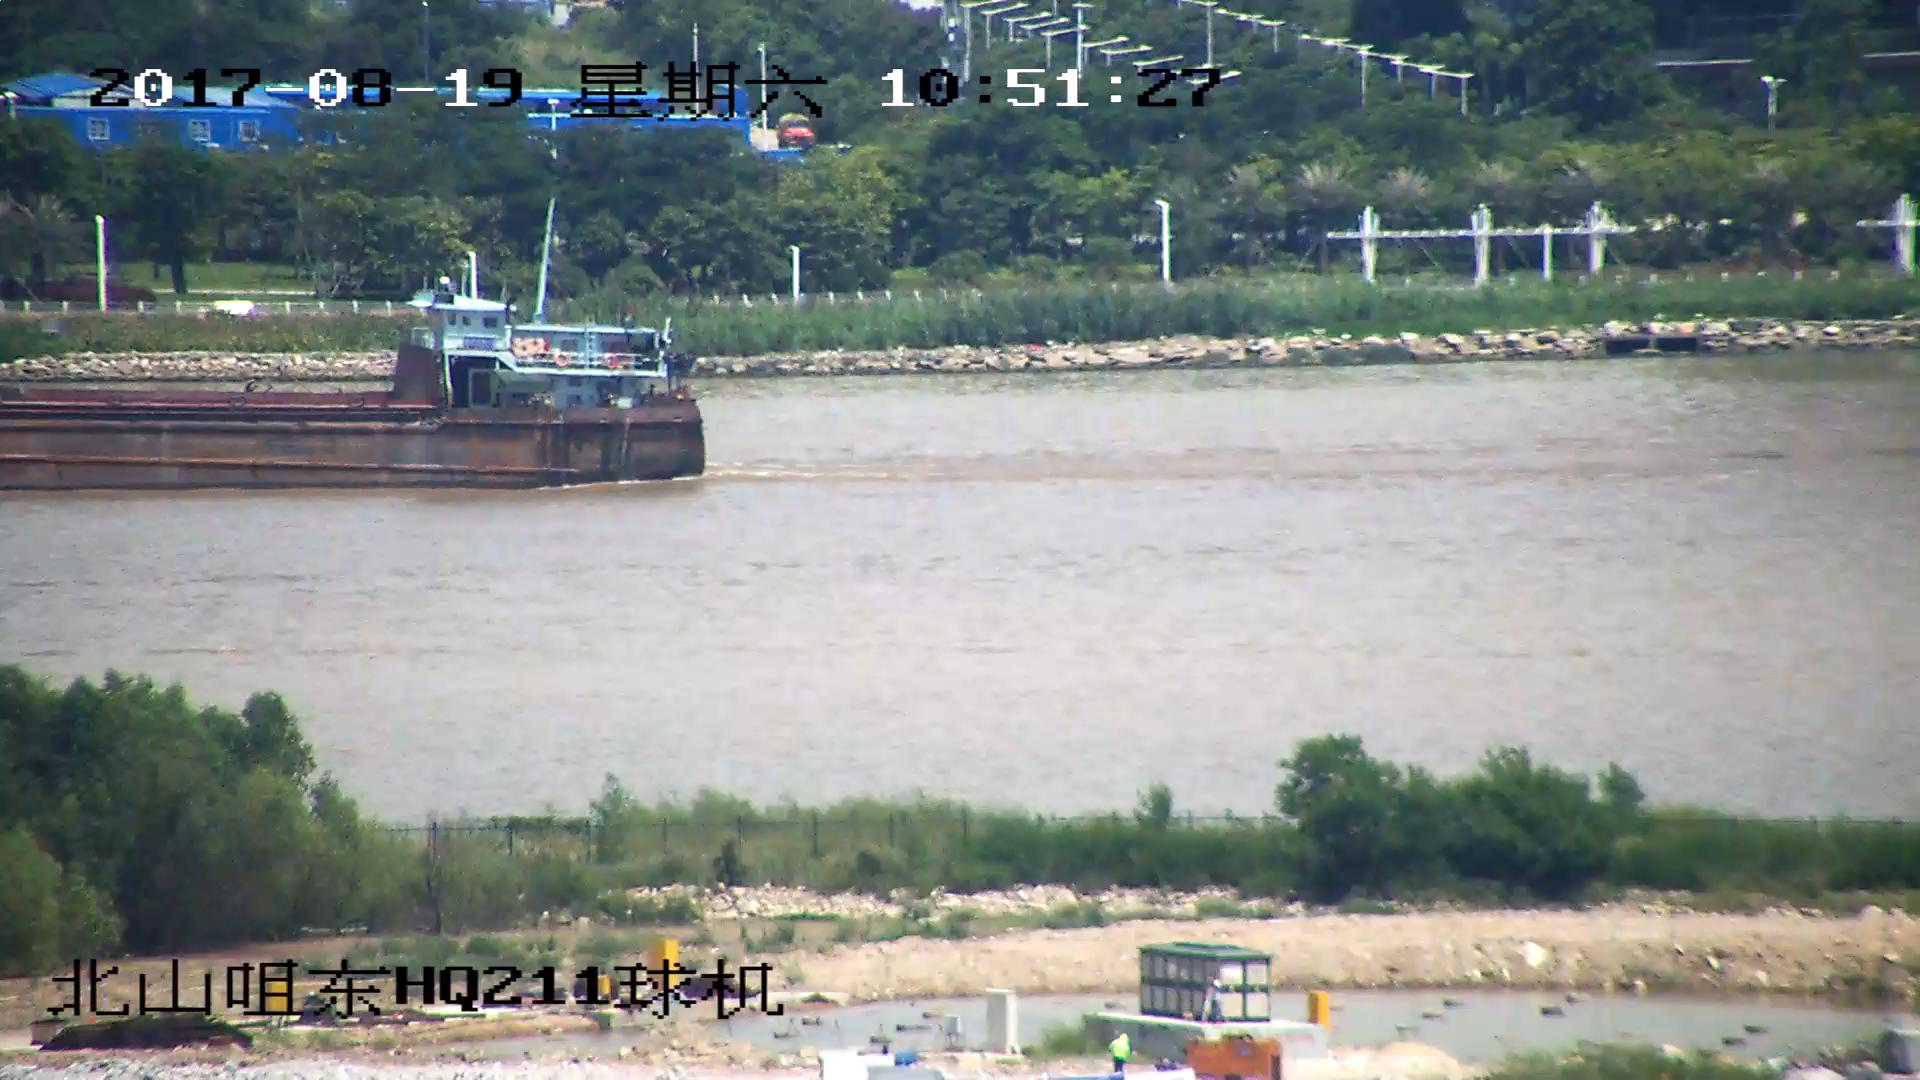bulk cargo carrier: (1, 275, 708, 490)
